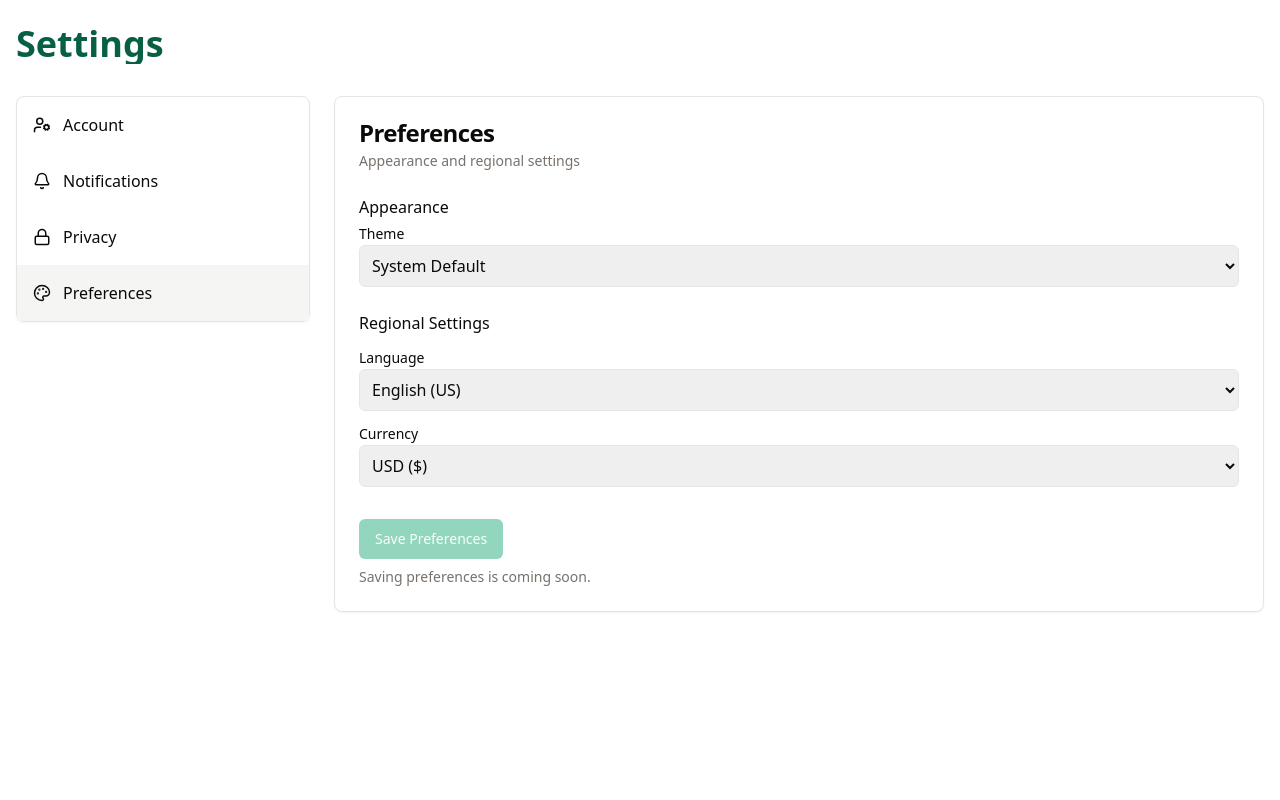
Test: Settings page (App Settings hub) › Change Password dialog › opens from the Change Password button and shows the policy hint
Click the button with test id "settings-tab-account": {"x": 93, "y": 125} [17,97,309,153]
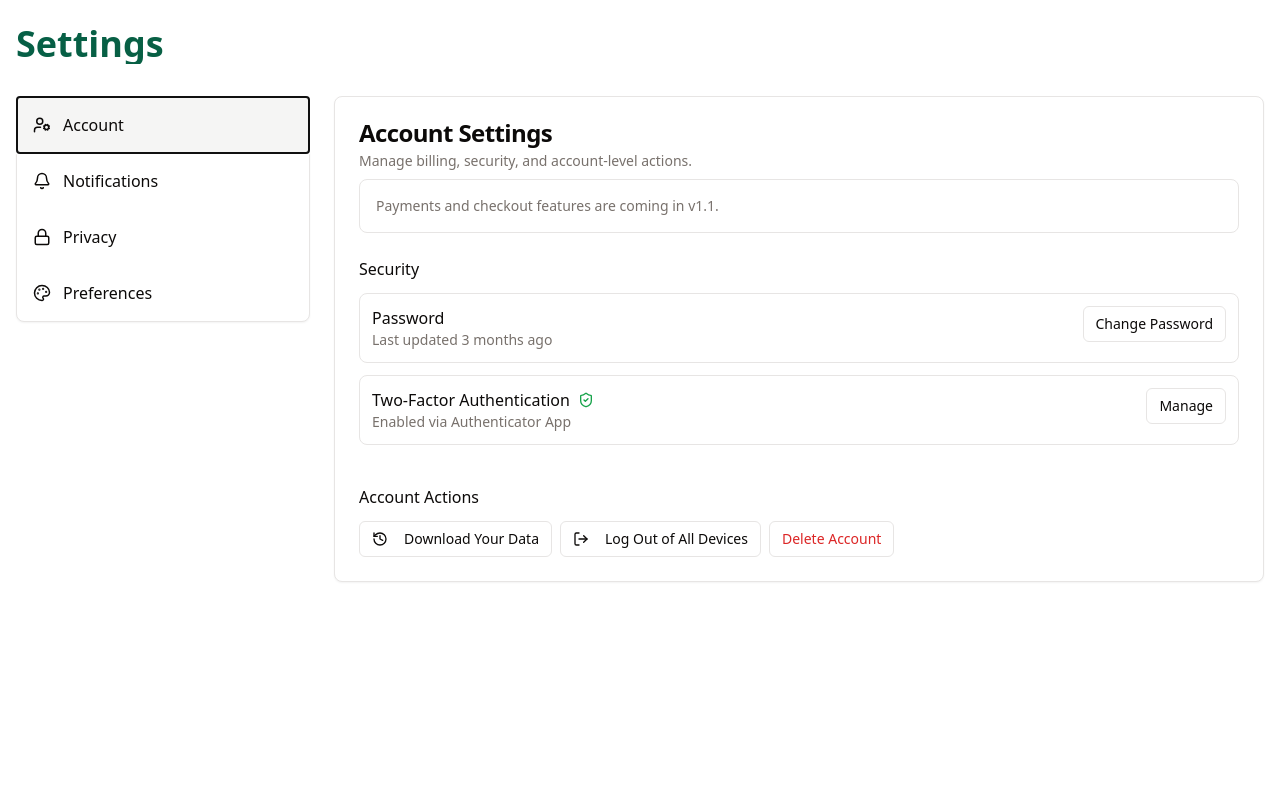
Click the button "Change Password": {"x": 1154, "y": 324} [1082,306,1226,342]
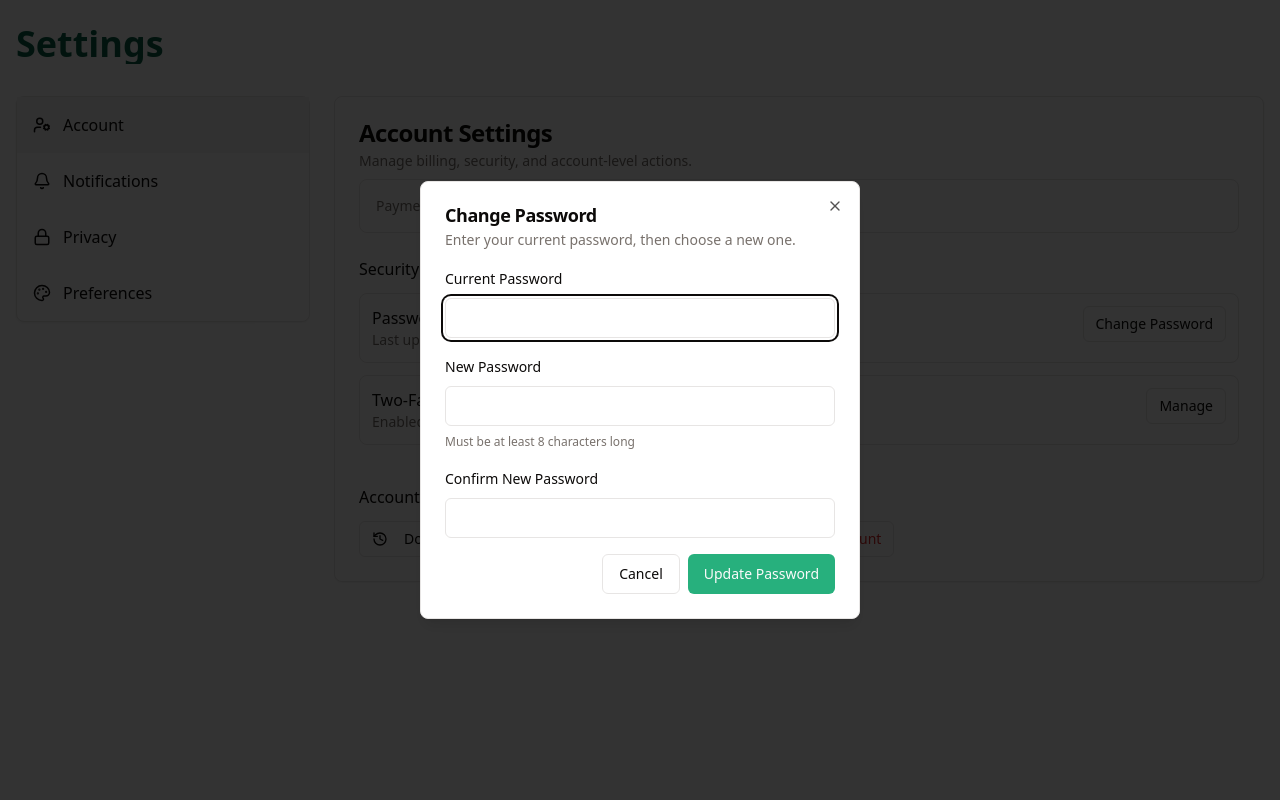
Check: the dialog "Change Password" is shown, box [420,181,860,619]
Check: the text with test id "change-password-hint" shows "at least 8 characters", box [445,433,635,450]
